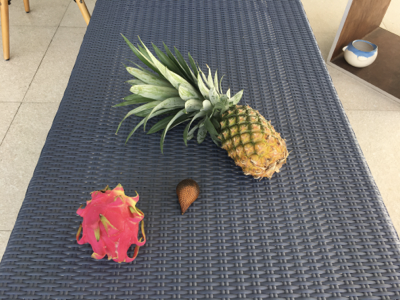dragon fruit: (76, 184, 147, 265)
pineapple: (113, 33, 289, 180)
snake fruit: (177, 179, 199, 216)
